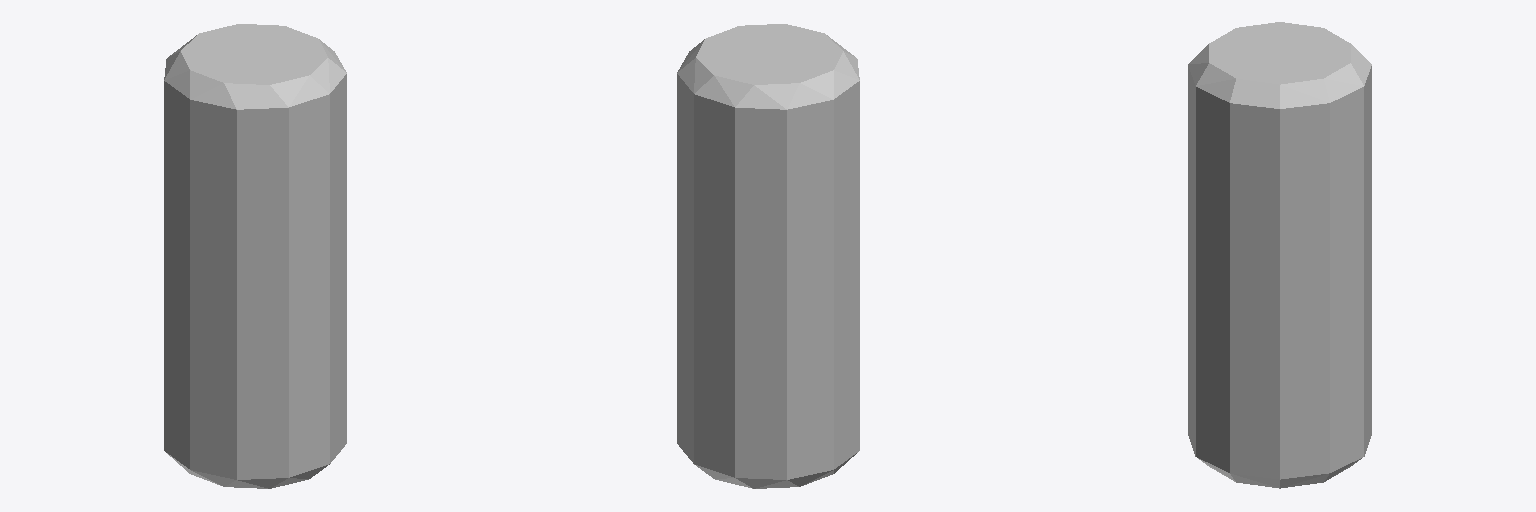
File: 78. Стопорный палец.obj
The picture shows the model from 3 angles: view 1: azimuth 30°, elevation 25°; view 2: azimuth 150°, elevation 25°; view 3: azimuth 270°, elevation 25°; orthographic projection.
Parts seen in each view (by area): view 1: Твердое тело1; view 2: Твердое тело1; view 3: Твердое тело1.
Part boxes in pixels (left/top/right/bottom): Твердое тело1: left=164, top=24, right=346, bottom=488; Твердое тело1: left=677, top=24, right=859, bottom=488; Твердое тело1: left=1188, top=22, right=1371, bottom=488.
Size of the model in its own units: 4.9 by 12 by 4.95.